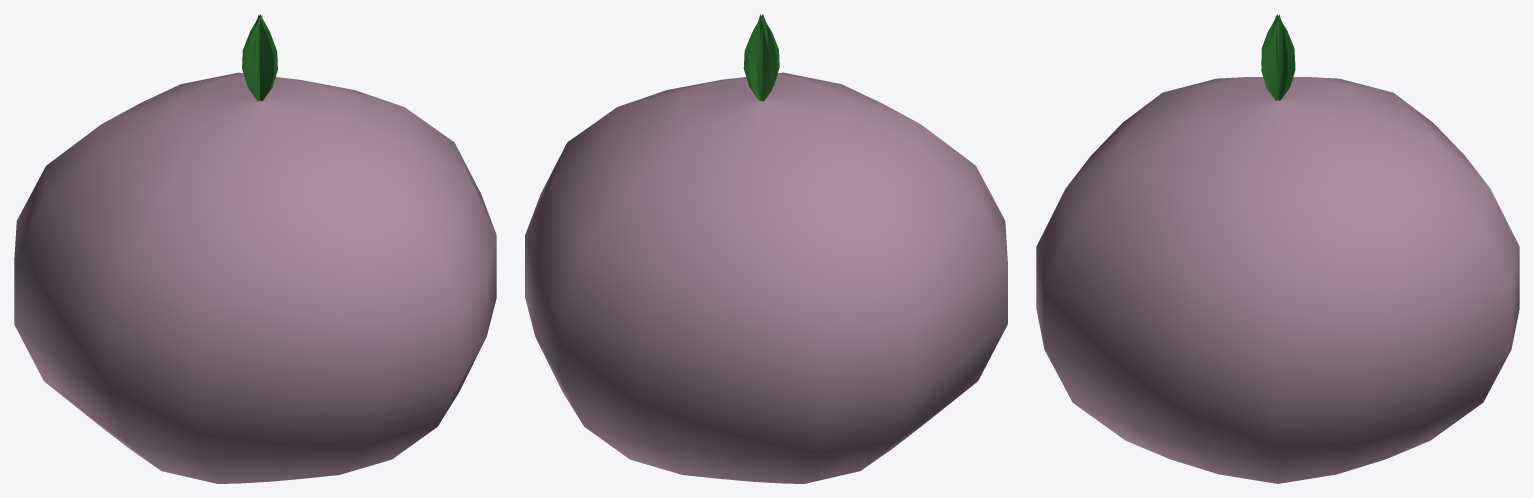
File: fruit-tomato-chilled.gltf
3 renders of one model, left to right at view 1: azimuth 30°, elevation 25°; view 2: azimuth 150°, elevation 25°; view 3: azimuth 270°, elevation 25°, orthographic.
Size of the model in its own units: 0.3939 by 0.3964 by 0.3939.
